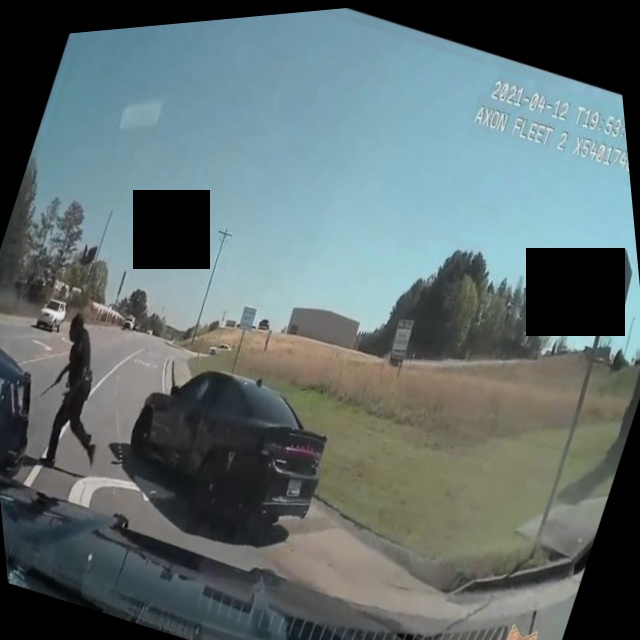gun: (30, 359, 73, 407)
